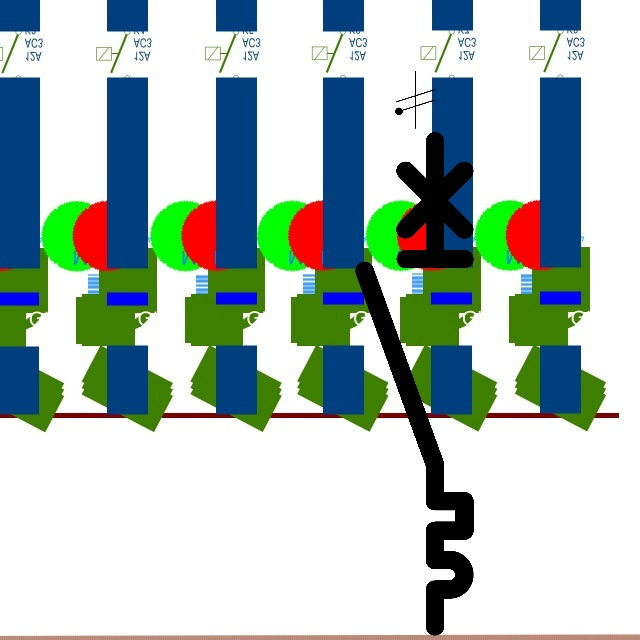interruptor_termomagnetico: (352, 128, 477, 638)
